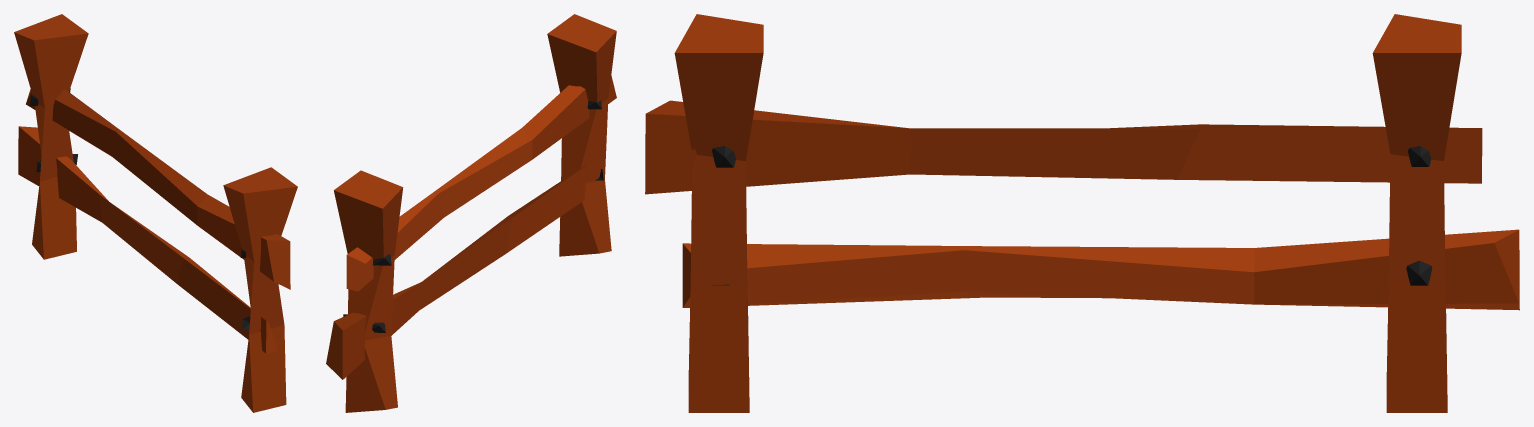
Rendered from fence.obj.
3 renders of one model, left to right at view 1: azimuth 30°, elevation 25°; view 2: azimuth 150°, elevation 25°; view 3: azimuth 270°, elevation 25°, orthographic. The views are drawn at different scales.
Visible parts, largest first — view 1: Cube.001_Cube.002, Cube_Cube.001, Cube.002_Cube.003, Cube.003_Cube.004; view 2: Cube.001_Cube.002, Cube_Cube.001, Cube.003_Cube.004, Cube.002_Cube.003; view 3: Cube.003_Cube.004, Cube.002_Cube.003, Cube.001_Cube.002, Cube_Cube.001.
Boxes of the visible parts, <box> form: Cube.001_Cube.002: <box>223,167,297,412</box>; Cube_Cube.001: <box>14,14,88,259</box>; Cube.002_Cube.003: <box>26,89,290,289</box>; Cube.003_Cube.004: <box>18,126,277,353</box>; Cube.001_Cube.002: <box>547,14,616,256</box>; Cube_Cube.001: <box>334,170,403,412</box>; Cube.003_Cube.004: <box>326,165,587,379</box>; Cube.002_Cube.003: <box>346,75,616,291</box>; Cube.003_Cube.004: <box>682,229,1519,310</box>; Cube.002_Cube.003: <box>645,100,1482,194</box>; Cube.001_Cube.002: <box>674,14,763,412</box>; Cube_Cube.001: <box>1372,14,1461,412</box>.
Bounding box in the file's own units: 0.1803 × 0.7341 × 1.59.
